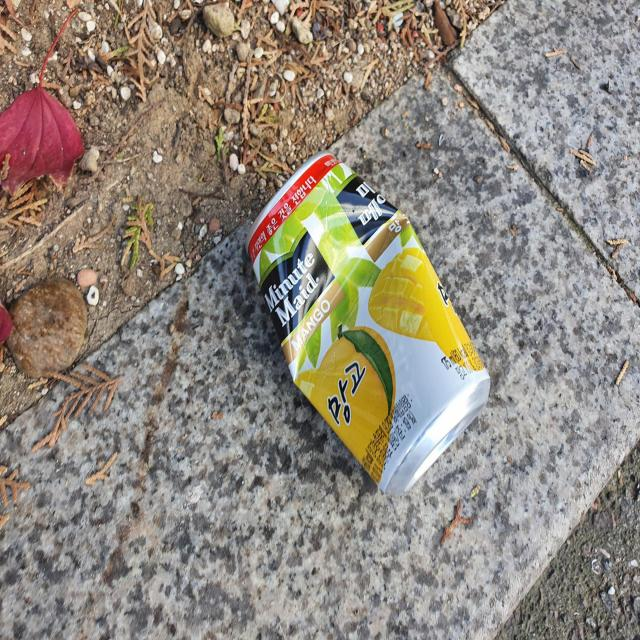can: (246, 151, 491, 495)
